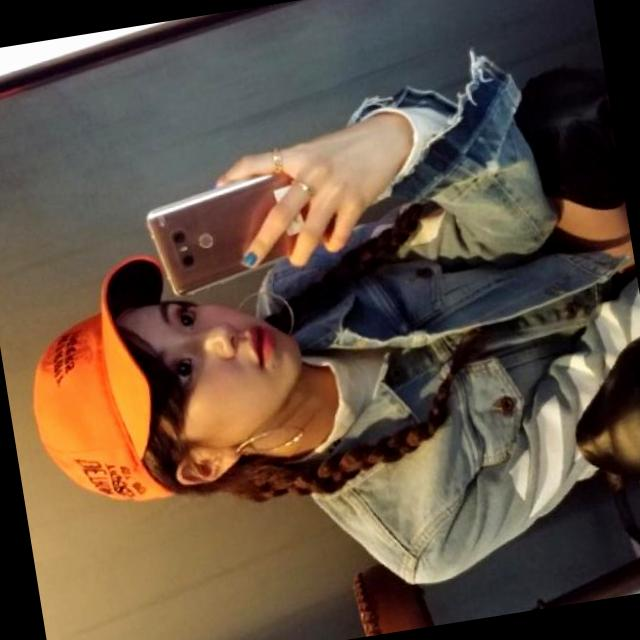lens_back: (167, 227, 189, 246), (178, 250, 198, 270)
phone: (140, 158, 352, 302)
